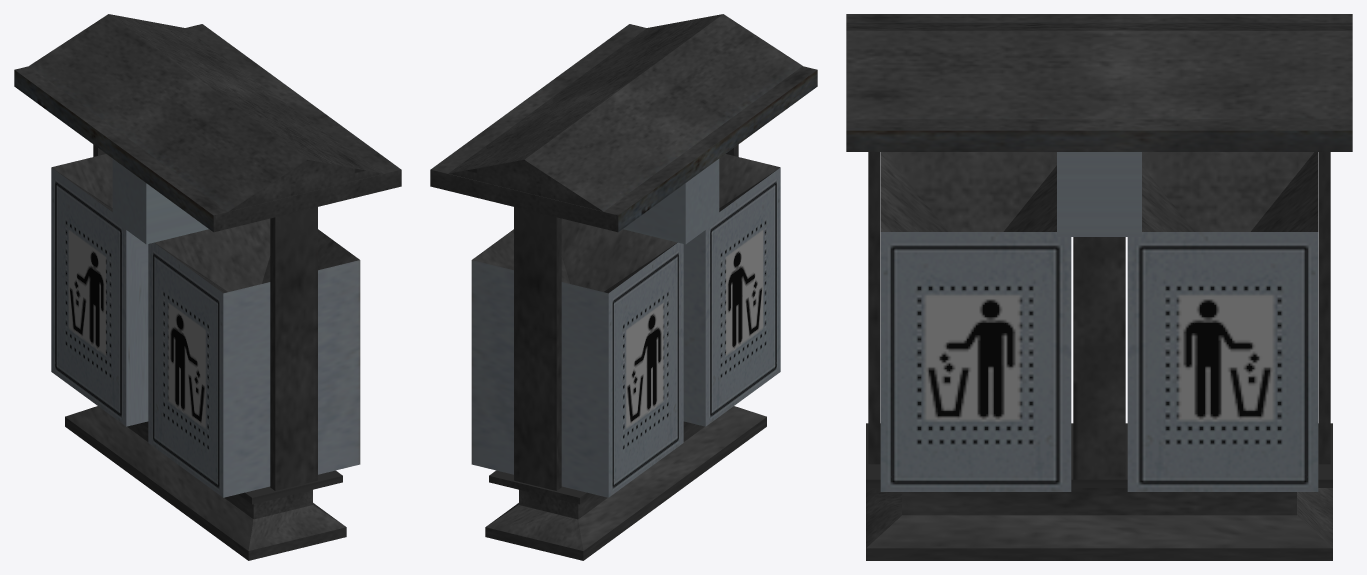
Rendered from Street_Trash.FBX.
3 views of the same model, side by side, from view 1: azimuth 30°, elevation 25°; view 2: azimuth 150°, elevation 25°; view 3: azimuth 270°, elevation 25° (orthographic). The views are drawn at different scales.
Visible parts, largest first — view 1: Street_Trash_Model; view 2: Street_Trash_Model; view 3: Street_Trash_Model.
Part boxes in pixels (x1,y1,x2,y2): Street_Trash_Model: (14,14,401,560); Street_Trash_Model: (430,14,817,560); Street_Trash_Model: (846,14,1352,560).
Size of the model in its own units: 0.8488 by 1.7 by 1.56.
Materials: 1 (1 with a texture image).
